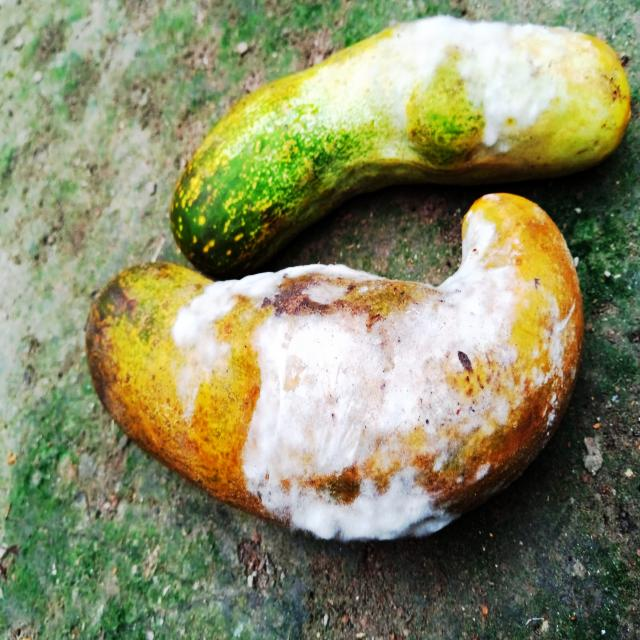Pythium-Fruit-Rot: (173, 209, 574, 546), (367, 9, 588, 159)
